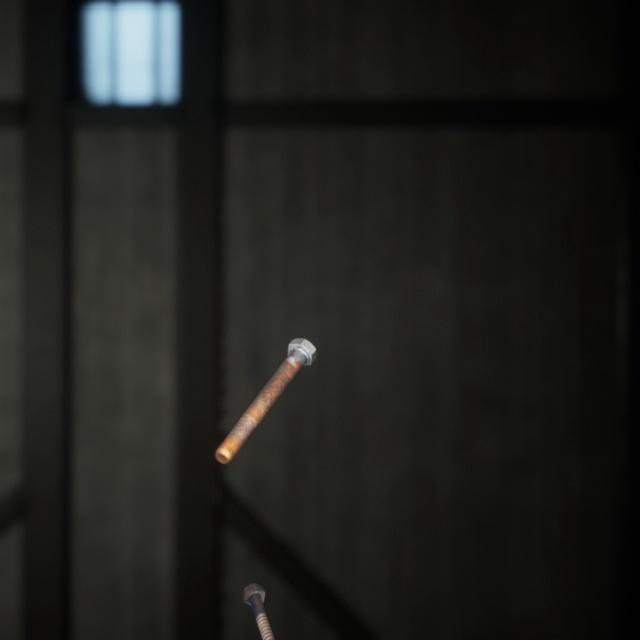bolt: (210, 314, 321, 447), (237, 554, 282, 639)
